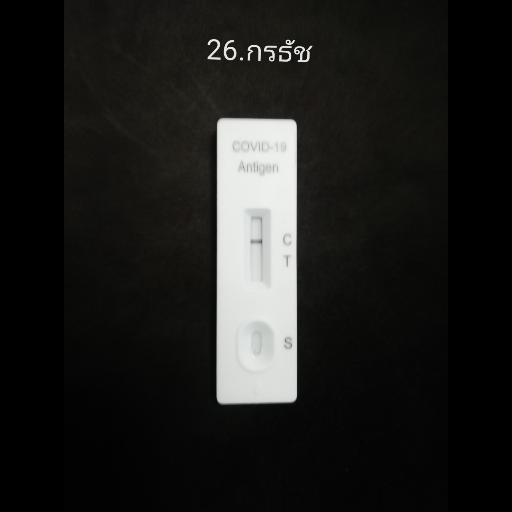Neg: (216, 117, 296, 401)
